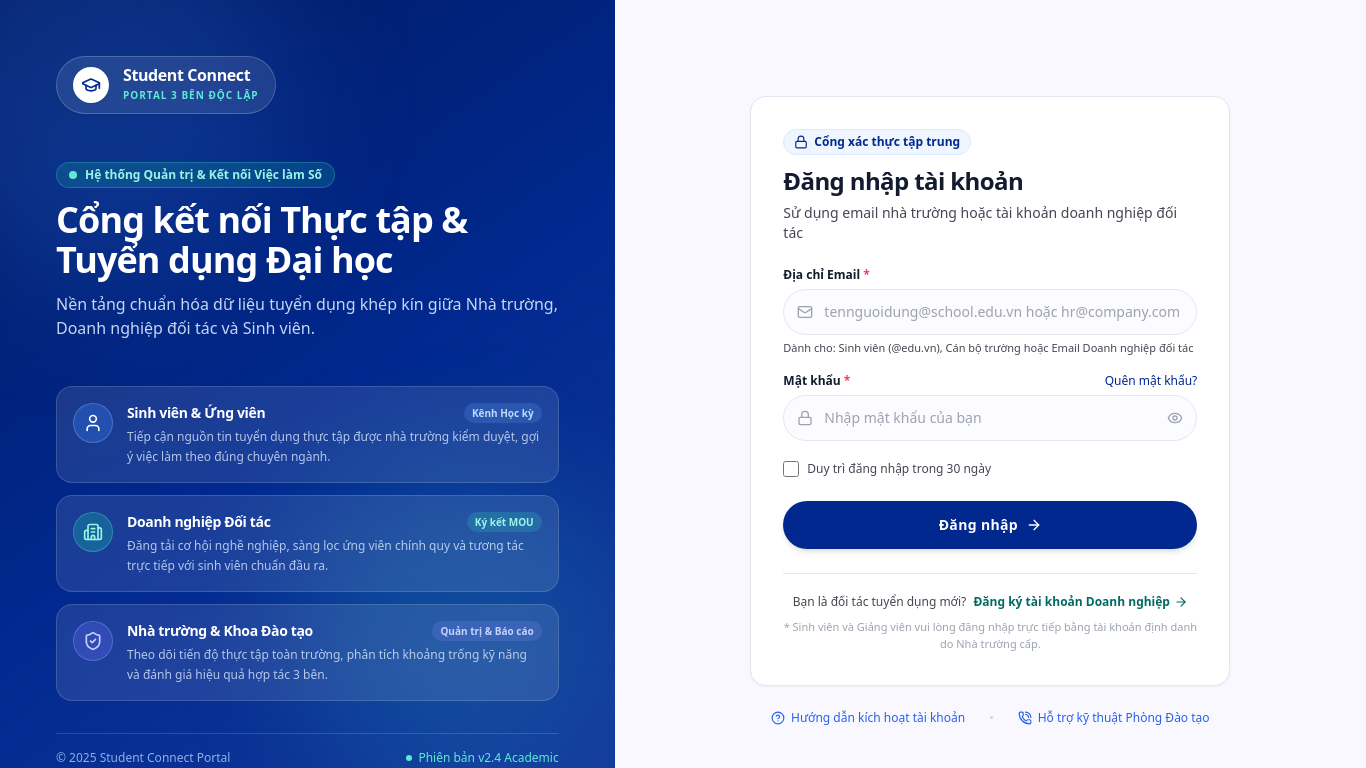
LoginPage › displays PENDING_APPROVAL warning banner when account is waiting for school approval
Type "hr@fpt.com" into the field with placeholder "tennguoidung@school.edu.vn hoặc hr@company.com" at (990, 312), box [783,289,1197,335]
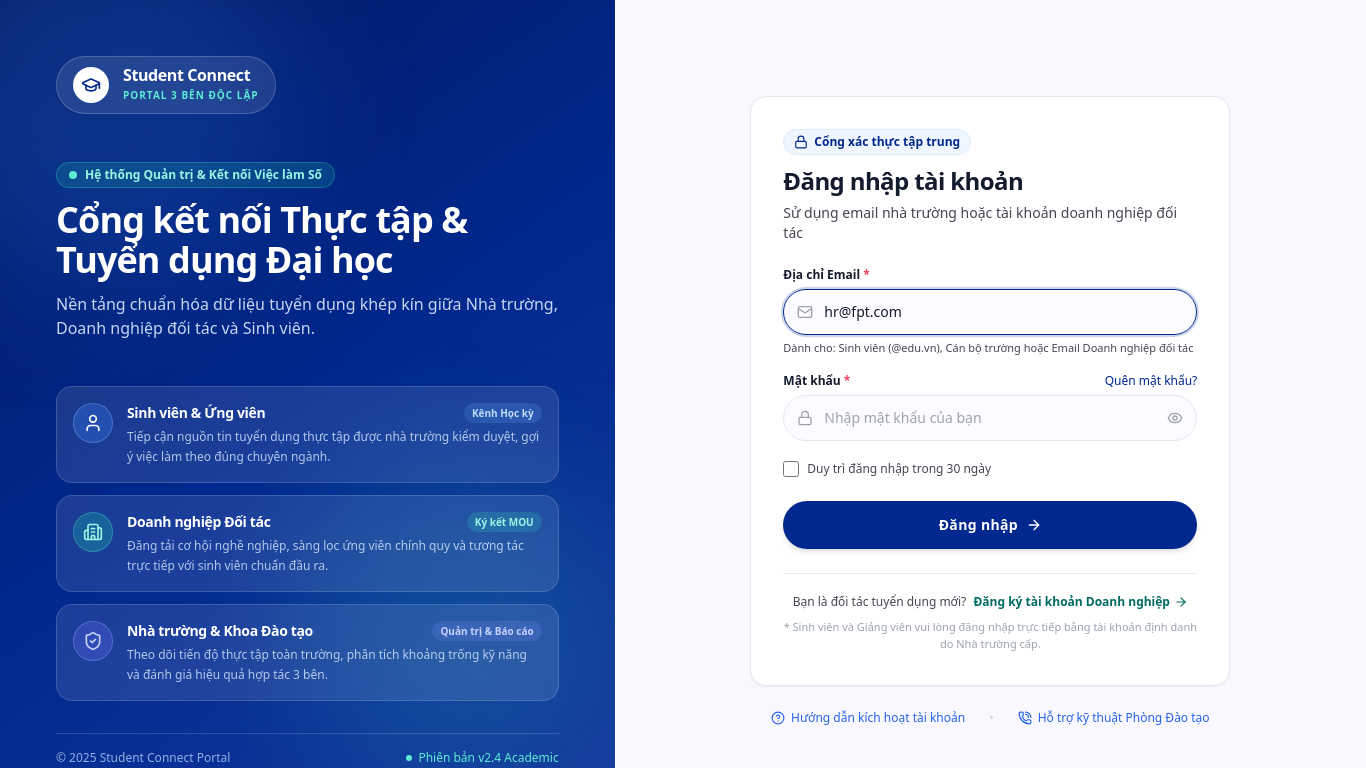
Type "Secret@123" into the password field with placeholder "Nhập mật khẩu của bạn" at (990, 418), box [783,395,1197,441]
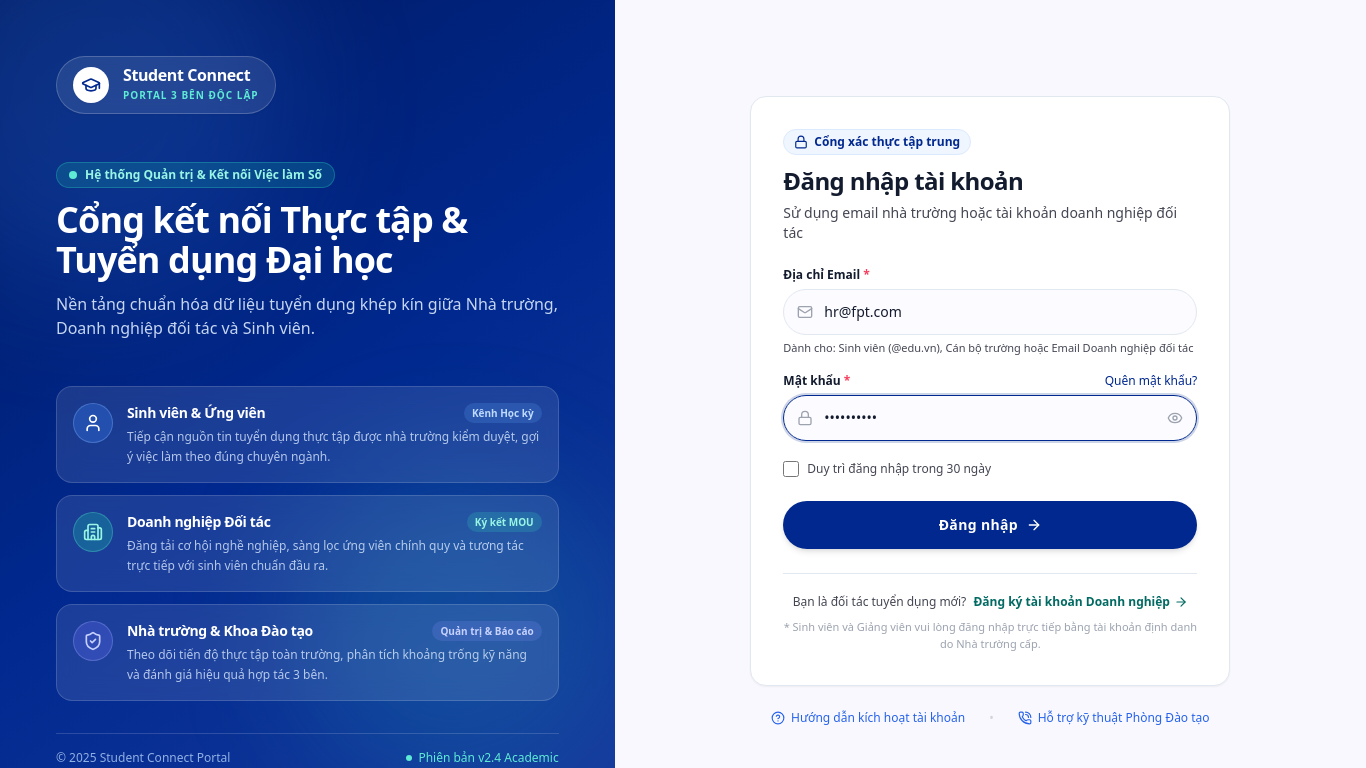
Click the button "Đăng nhập" at (990, 525), box [783,501,1197,549]
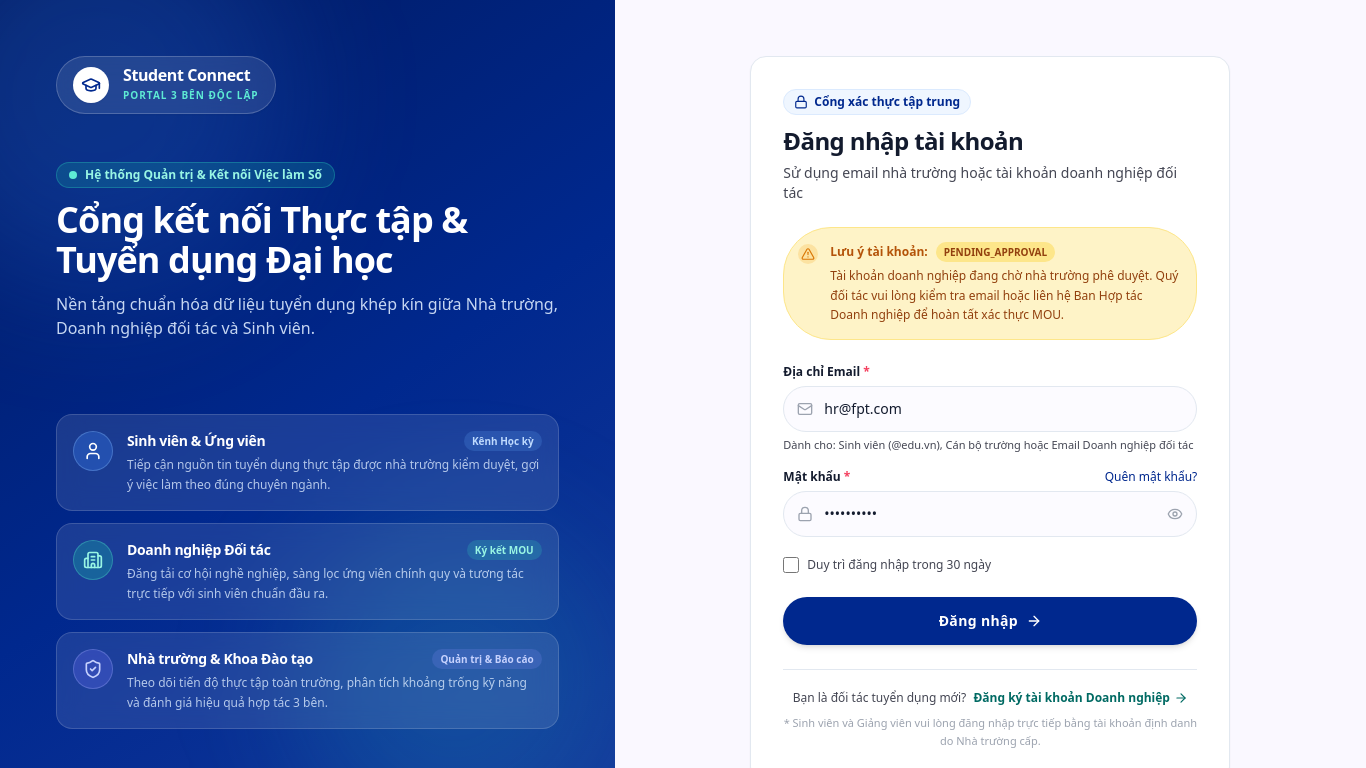
Now the text "PENDING_APPROVAL" is shown, box [936,242,1055,262]
Now the text "Tài khoản doanh nghiệp đang chờ nhà trường phê duyệt" is shown, box [830,267,1178,323]
